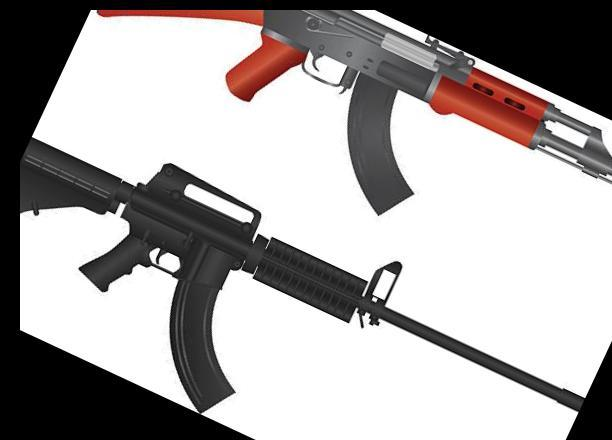larga: (19, 138, 585, 415), (96, 9, 612, 217)
